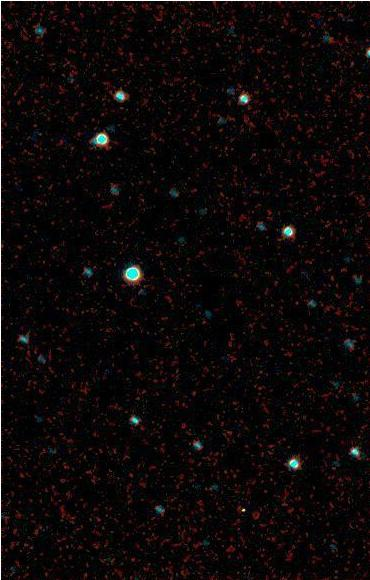star: (227, 493, 257, 523)
